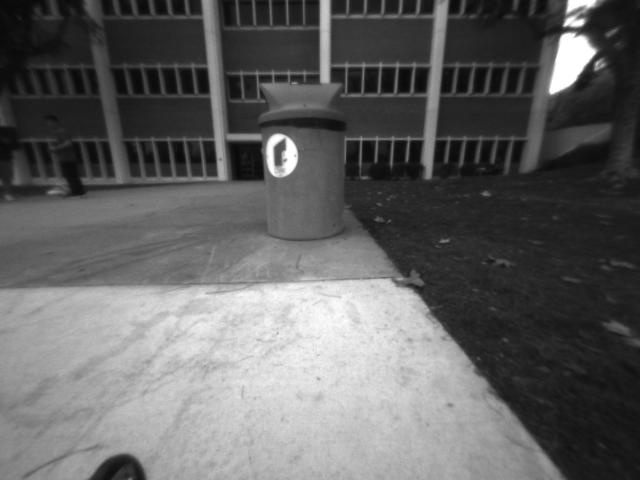trashcan: (245, 74, 365, 251)
